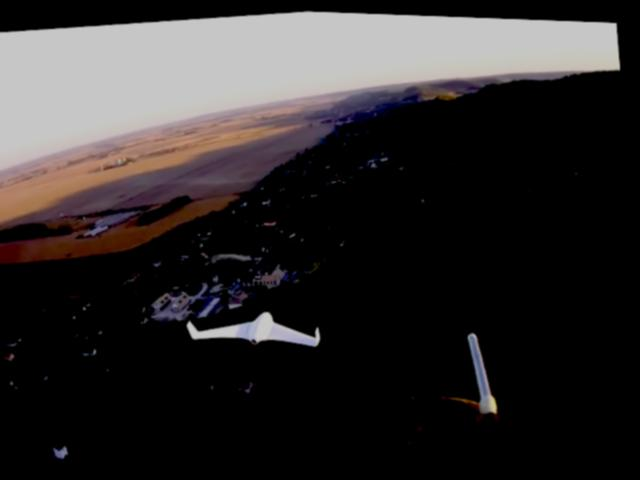plane: (186, 301, 324, 358)
